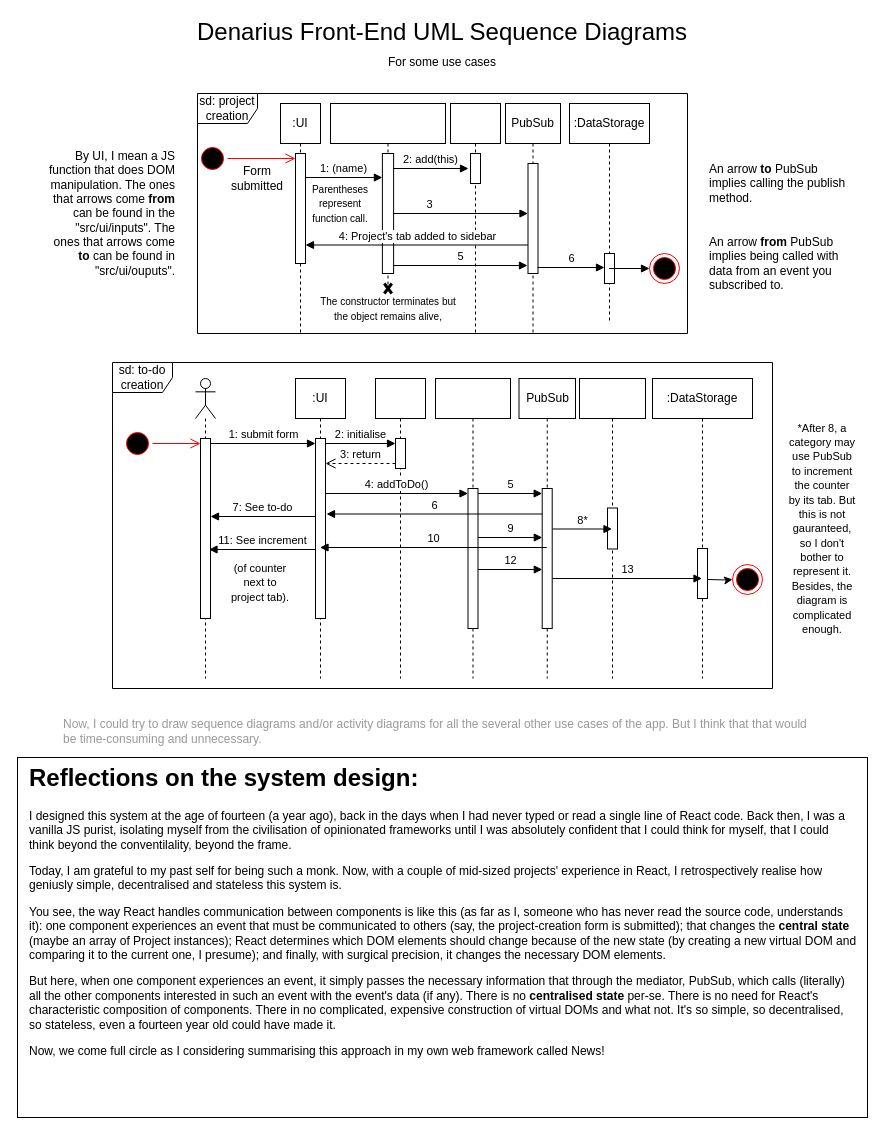
This 885x1135 diagram has some shape labels left out. Each missing label, with the box of its shape:
:Category: (578, 378, 646, 678)
:Project: (434, 378, 510, 678)
:ProjectConstructor: (330, 102, 446, 294)
:ToDo: (374, 378, 426, 678)
Projects: (450, 102, 500, 334)
